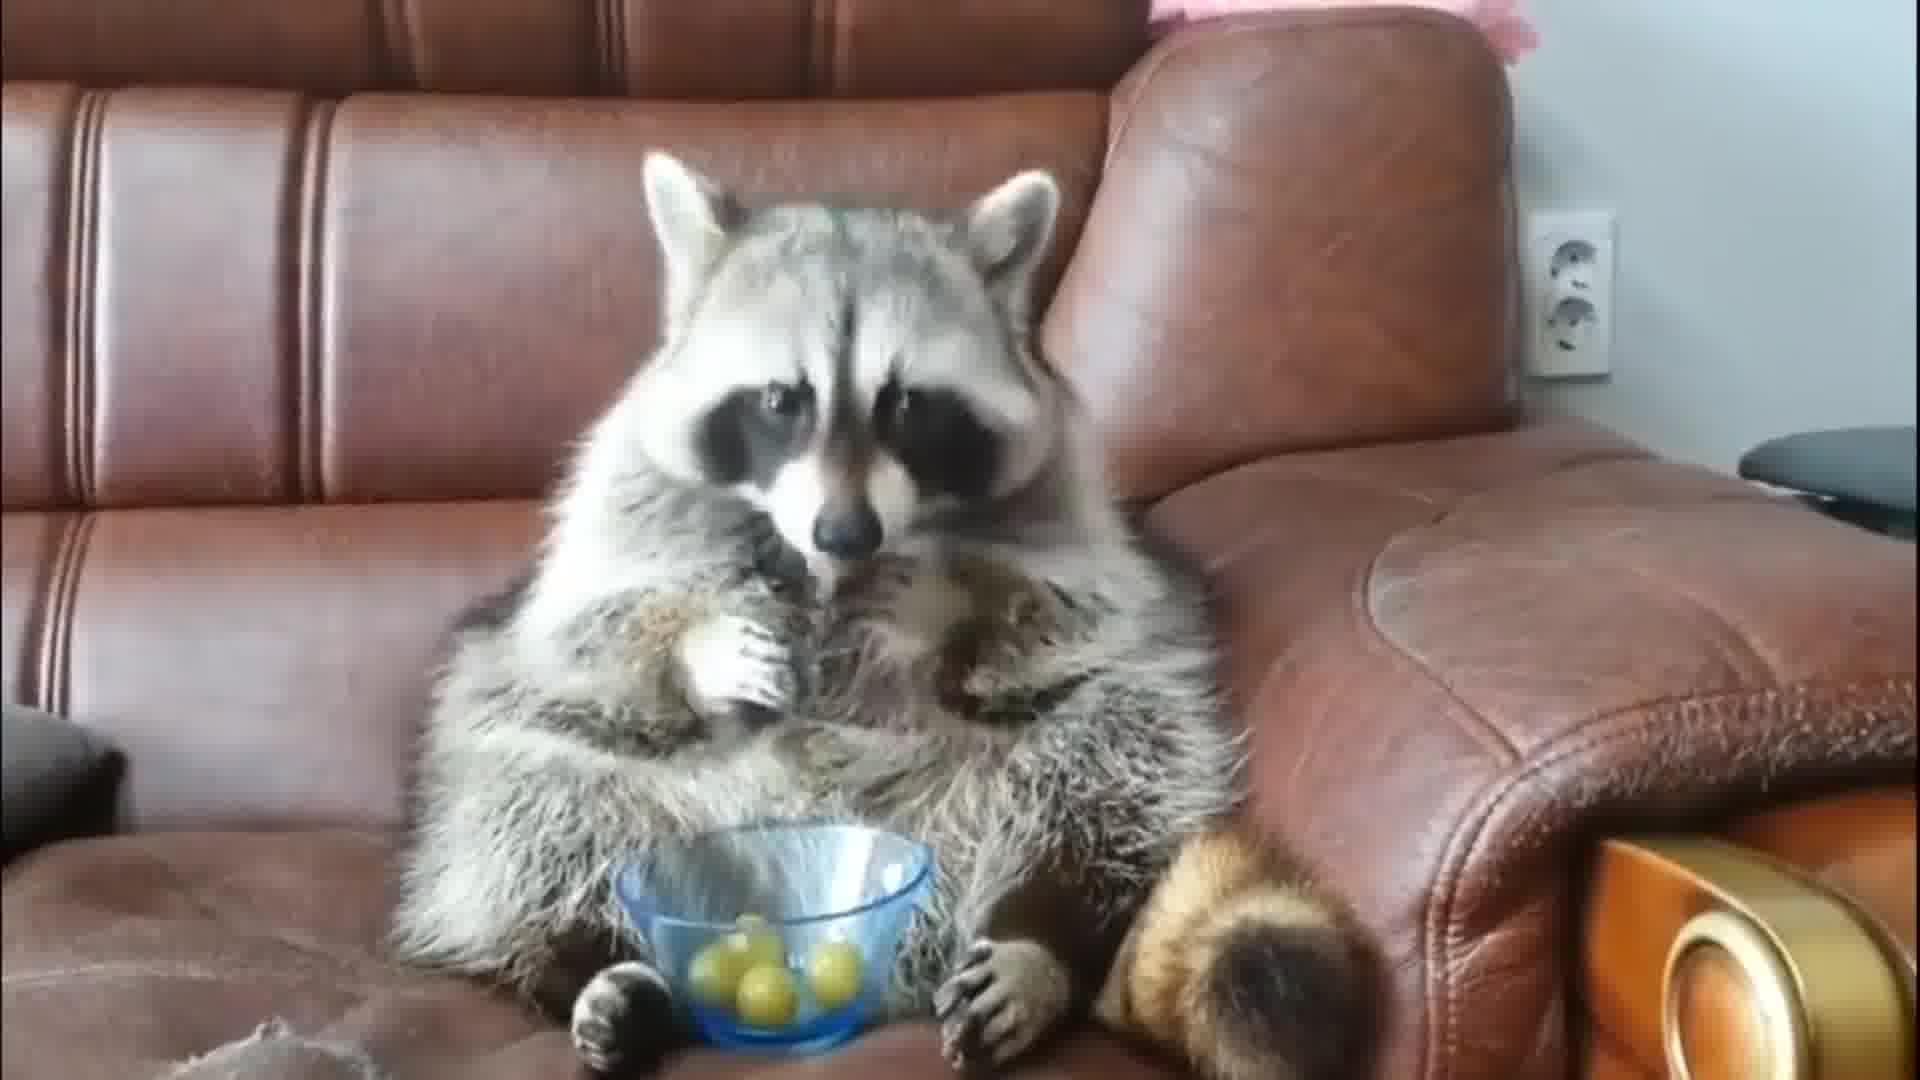raccoon: (381, 140, 1390, 1080)
